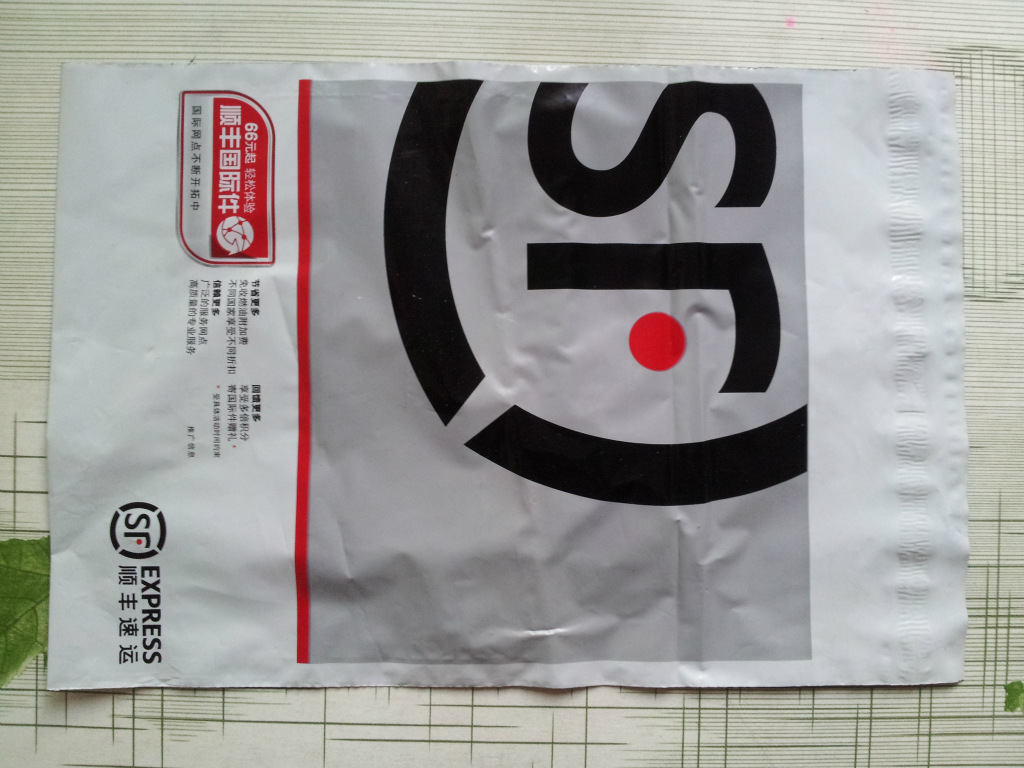塑料袋: (48, 64, 968, 689)
